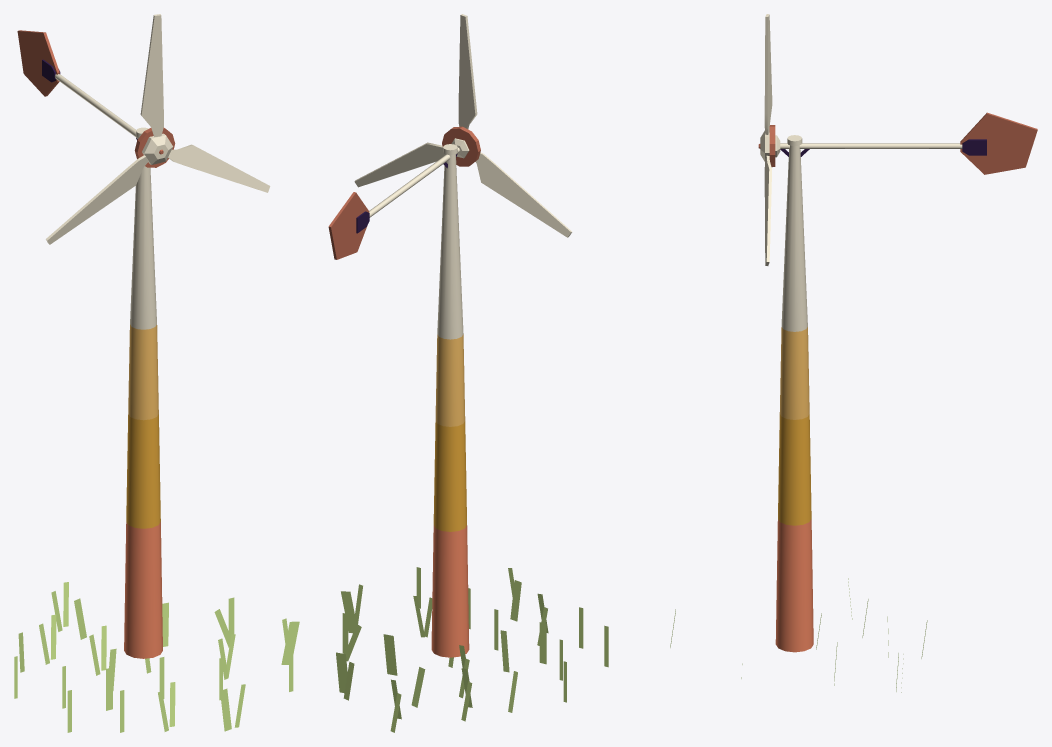
File: M_Windmill_Var1_4.fbx
3 renders of one model, left to right at view 1: azimuth 30°, elevation 25°; view 2: azimuth 150°, elevation 25°; view 3: azimuth 270°, elevation 25°, orthographic. The views are drawn at different scales.
Parts seen in each view (by area): view 1: M_Windmill_Var1_4; view 2: M_Windmill_Var1_4; view 3: M_Windmill_Var1_4.
Part boxes in pixels (x1=…): M_Windmill_Var1_4: x1=14, y1=14, x2=299, y2=732; M_Windmill_Var1_4: x1=328, y1=14, x2=608, y2=732; M_Windmill_Var1_4: x1=670, y1=14, x2=1037, y2=692.
Size of the model in its own units: 1.46 by 3.62 by 2.
